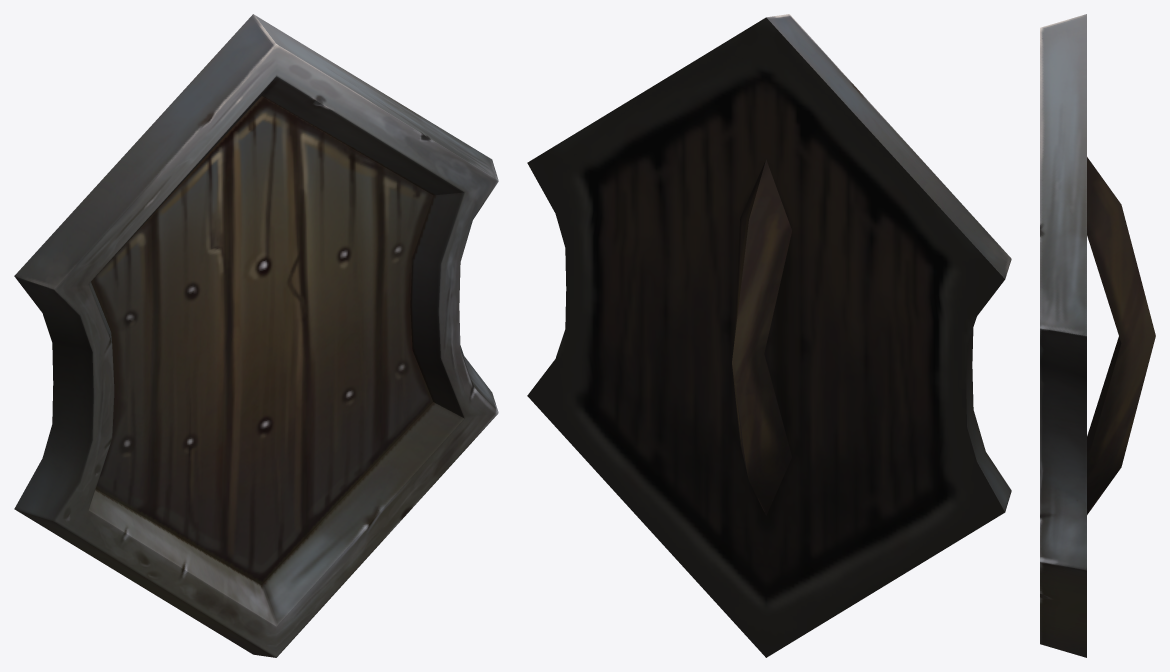
Rendered from Shield03.fbx.
3 renders of one model, left to right at view 1: azimuth 30°, elevation 25°; view 2: azimuth 150°, elevation 25°; view 3: azimuth 270°, elevation 25°, orthographic.
Parts seen in each view (by area): view 1: Shield03; view 2: Shield03; view 3: Shield03.
Boxes of the visible parts, left/top/right/bottom form: Shield03: left=14, top=14, right=498, bottom=657; Shield03: left=527, top=14, right=1011, bottom=657; Shield03: left=1040, top=14, right=1155, bottom=657.
Bounding box in the file's own units: 0.9552 × 1.22 × 0.1995.
